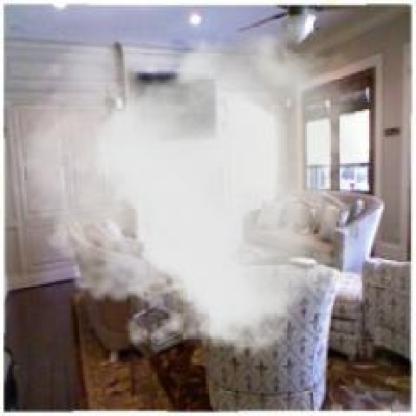Smoke: (1, 33, 361, 367)
